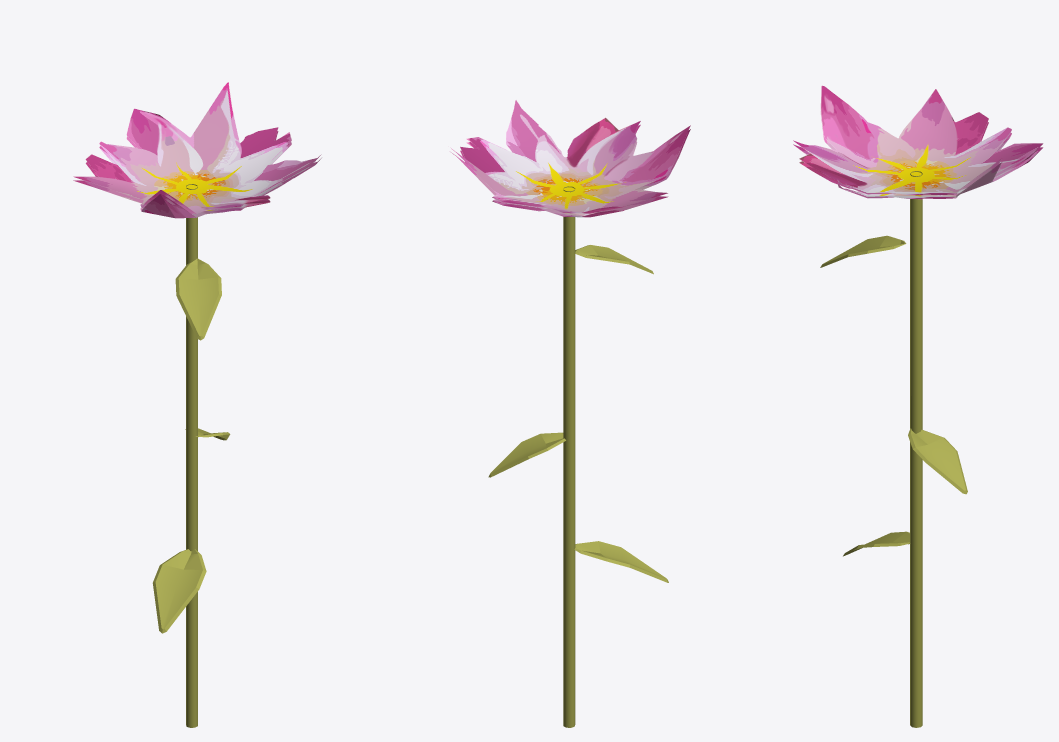
The model's file is SM_flower_05.fbx.
3 renders of one model, left to right at view 1: azimuth 30°, elevation 25°; view 2: azimuth 150°, elevation 25°; view 3: azimuth 270°, elevation 25°, orthographic. The views are drawn at different scales.
Parts seen in each view (by area): view 1: flower_05; view 2: flower_05; view 3: flower_05.
Boxes of the visible parts, left/top/right/bottom form: flower_05: left=73, top=82, right=321, bottom=727; flower_05: left=451, top=100, right=690, bottom=727; flower_05: left=793, top=85, right=1043, bottom=727.
Size of the model in its own units: 22.3 by 60.51 by 22.3.
